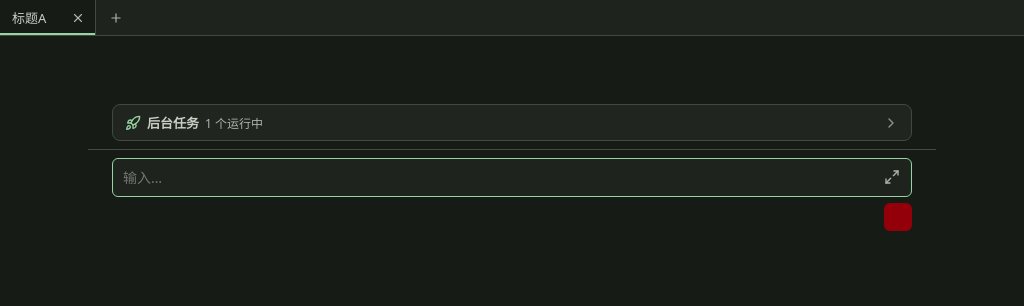
Test: 后台 shell 任务卡（design-shell-background） › 点 shell 行开输出窗：等宽输出渲染 + 空态按因二分（本端停止 → 丢弃文案）
This screenshot has width=1024, height=306.
Click the text "后台任务": (173, 122) [147, 113, 199, 132]
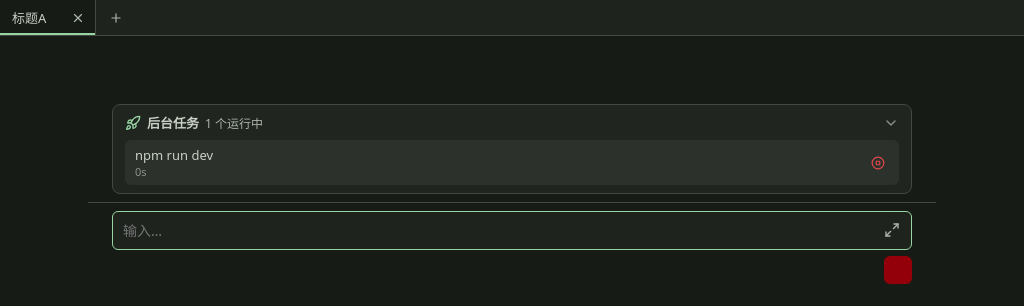
Click the text "npm run dev": (174, 155) [135, 146, 213, 164]
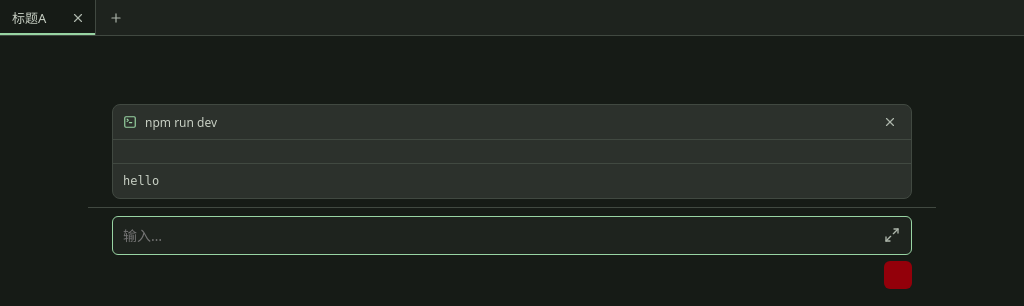
Expected: the text "hello" is shown, [123, 174, 159, 188]
Expected: the element "npm run dev" is shown, [112, 104, 912, 199]
// 关闭后换 404 空态（本端停止过）：Discarded 文案
Click the button named "关闭": (890, 122) [879, 111, 901, 133]
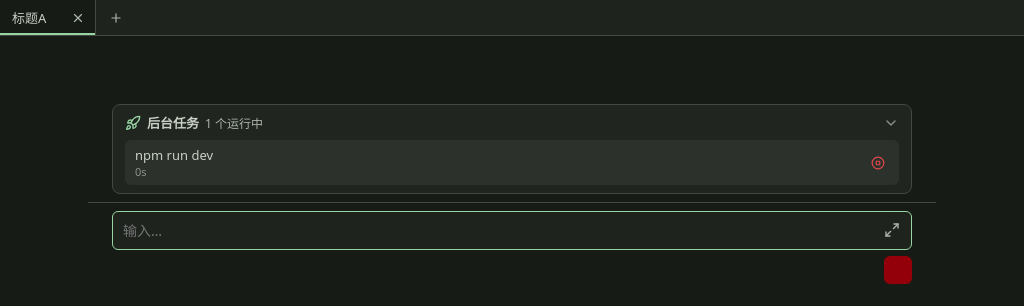
Click the text "npm run dev": (174, 155) [135, 146, 213, 164]
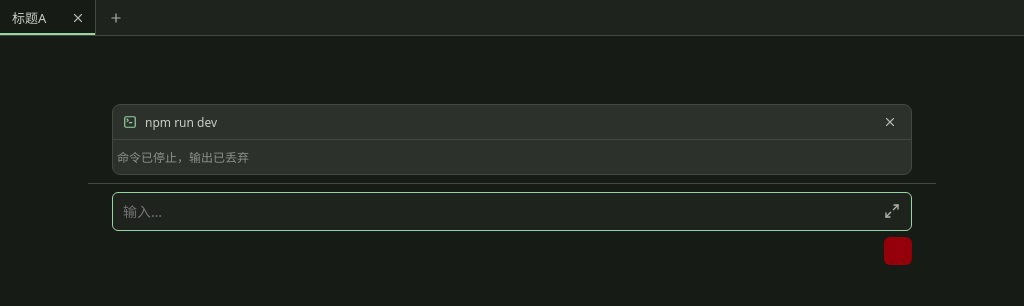
Expected: the text "命令已停止，输出已丢弃" is shown, [117, 149, 249, 166]
